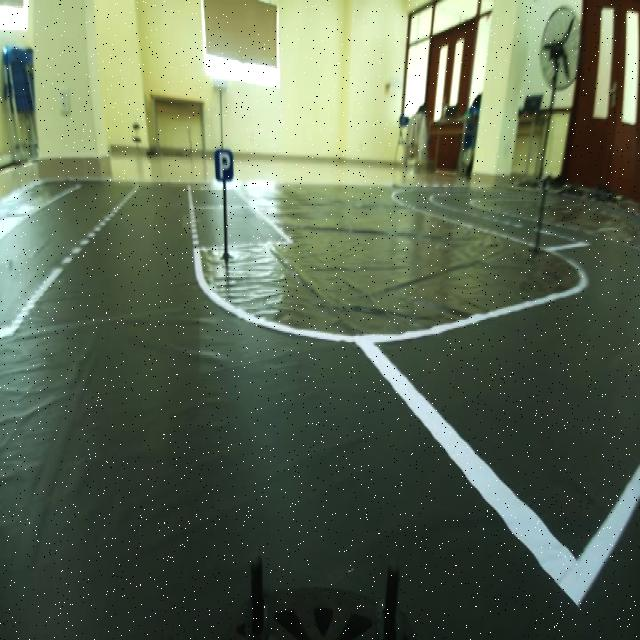parking: (208, 145, 243, 186)
